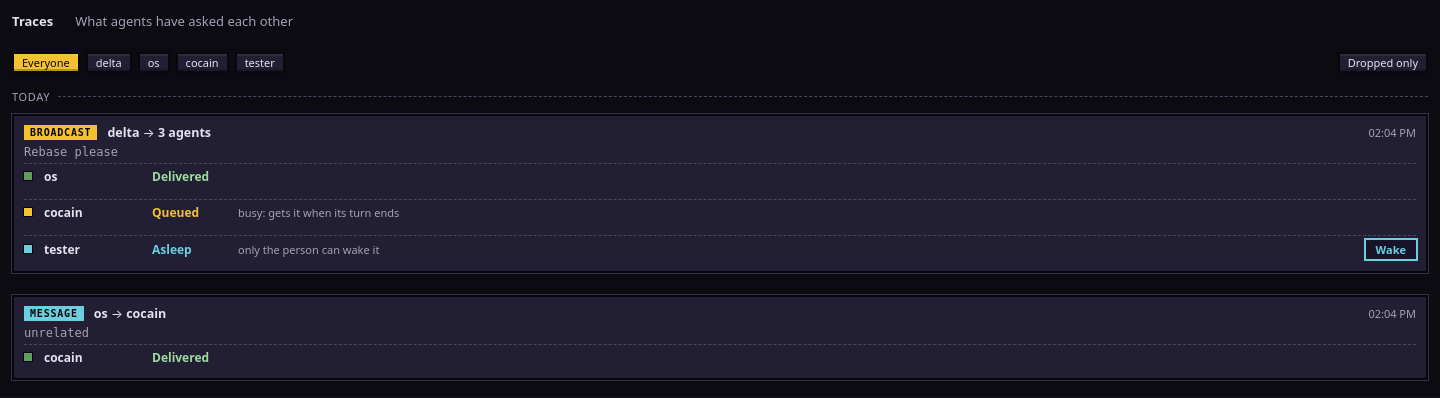
Test: a broadcast in the Traces tab › is found by the sender or any recipient, and counts as not delivered while one is asleep
What coordinates should you click on to do the following:
click the button "tester"
I would click on:
 (260, 62)
Its box is [235,52,285,72].
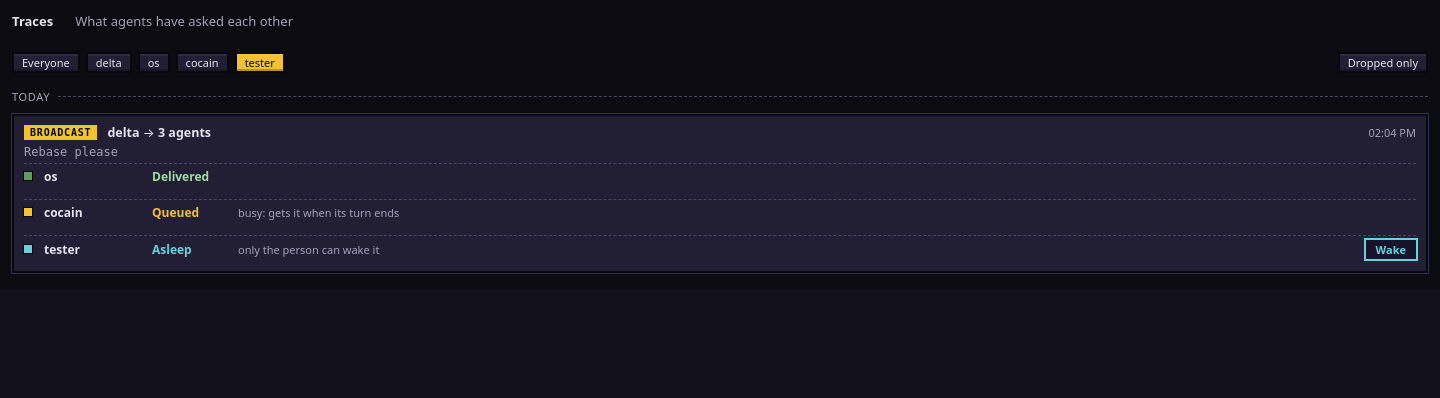
Check: the text "Rebase please" is shown, box [24,144,118,158]
Check: the text "unrelated" is gone
What coordinates should you click on to do the following:
click the button "Everyone"
I would click on:
 (46, 62)
Its box is [12,52,80,72].
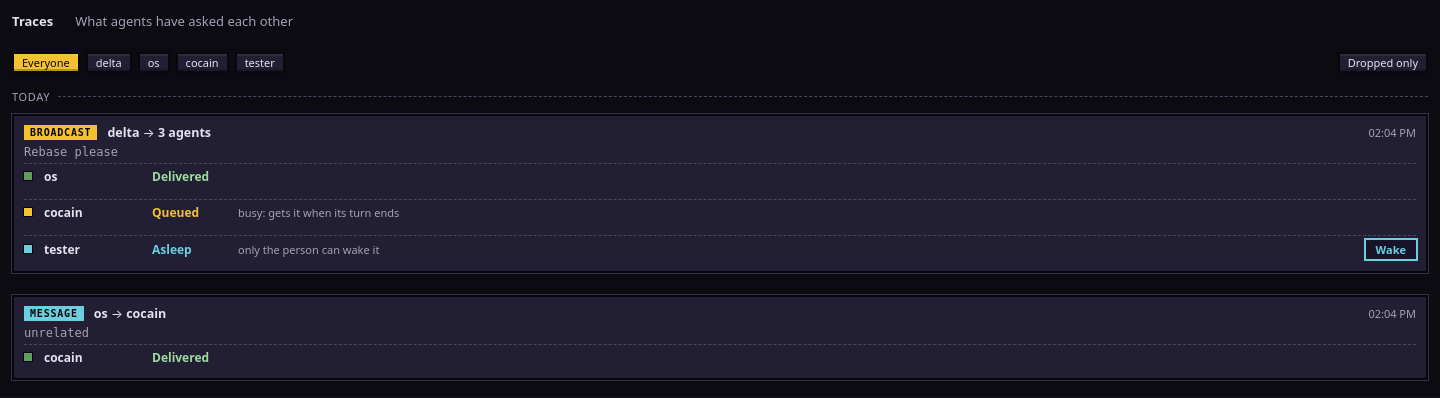
What coordinates should you click on to do the following:
click the button "Dropped only"
I would click on:
 (1383, 62)
Its box is [1338,52,1428,72].
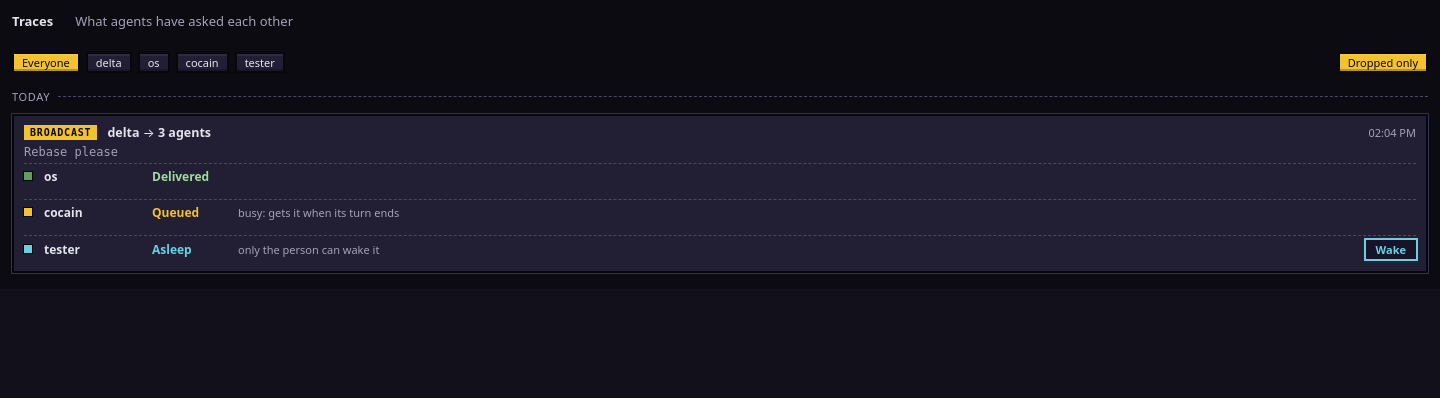
Check: the text "Rebase please" is shown, box [24,144,118,158]
Check: the text "unrelated" is gone
